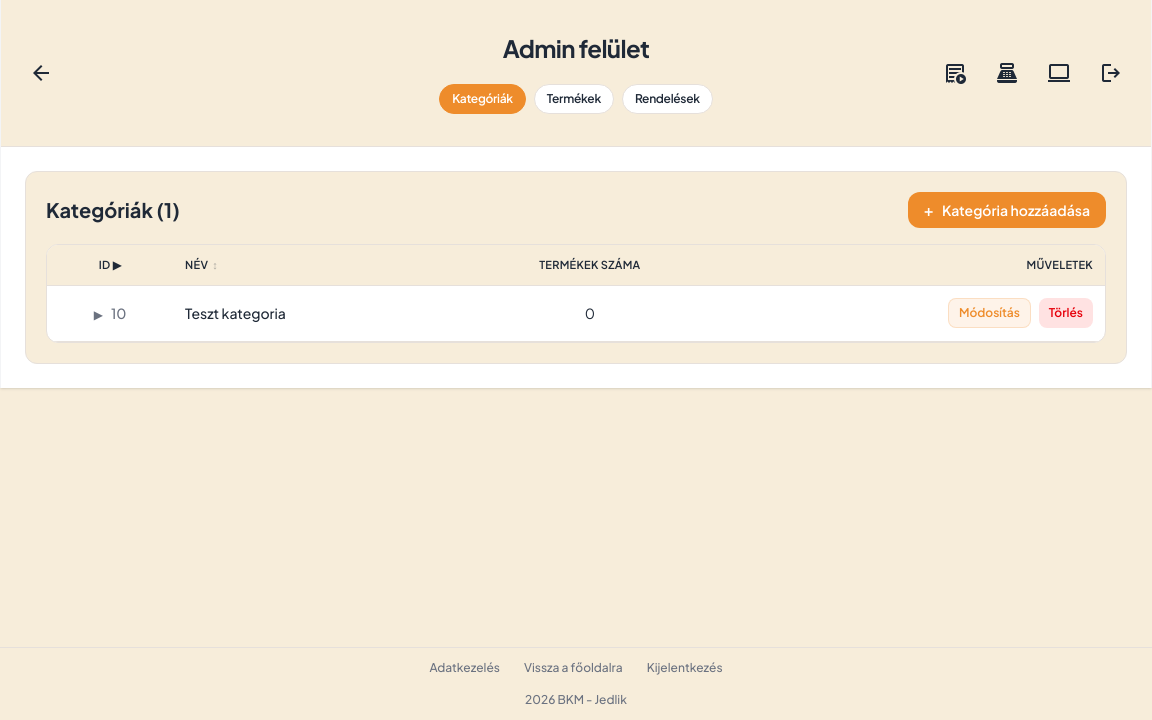
admin page › renders admin dashboard sections
This screenshot has width=1152, height=720.
Check: the heading "Admin felület" is shown, box [503,33,649,63]
Check: the button "Kategóriák" is shown, box [439,84,526,114]
What coordinates should you click on to do the following:
click the button "Termékek"
I would click on:
 (574, 99)
Its box is [534,84,614,114].
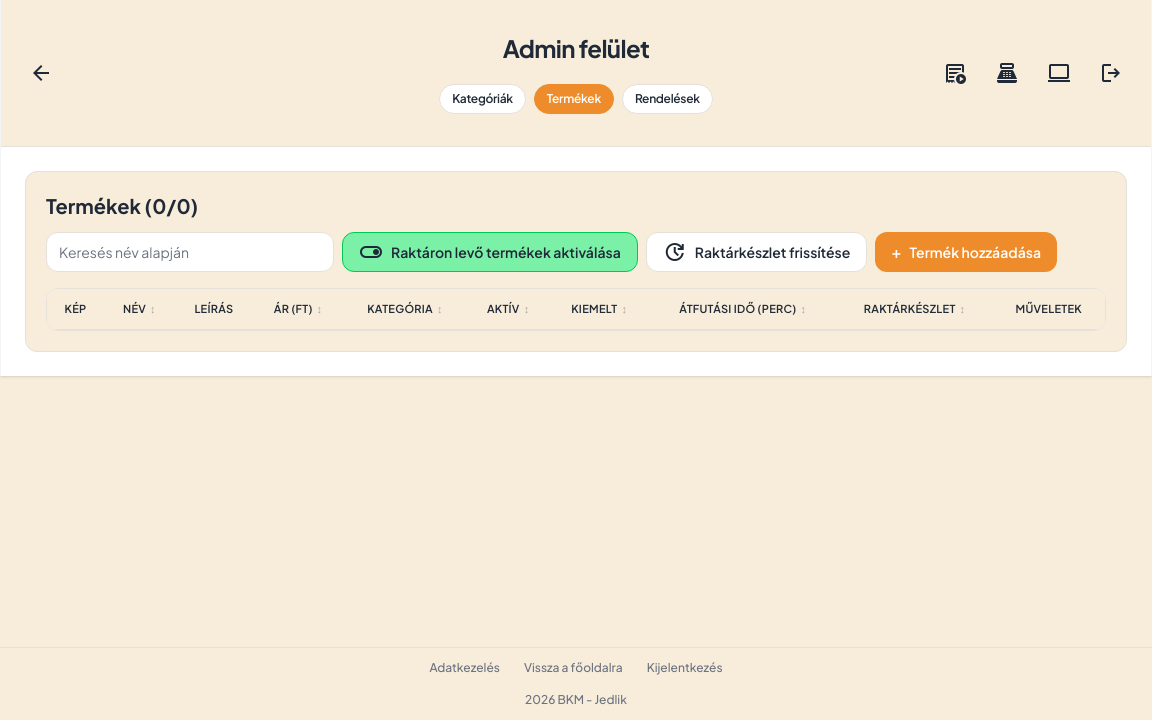
Check: the heading "Termékek (0/0)" is shown, box [46,192,198,220]
What coordinates should you click on to do the following:
click the button "Rendelések"
I would click on:
 (668, 99)
Its box is [622,84,713,114].
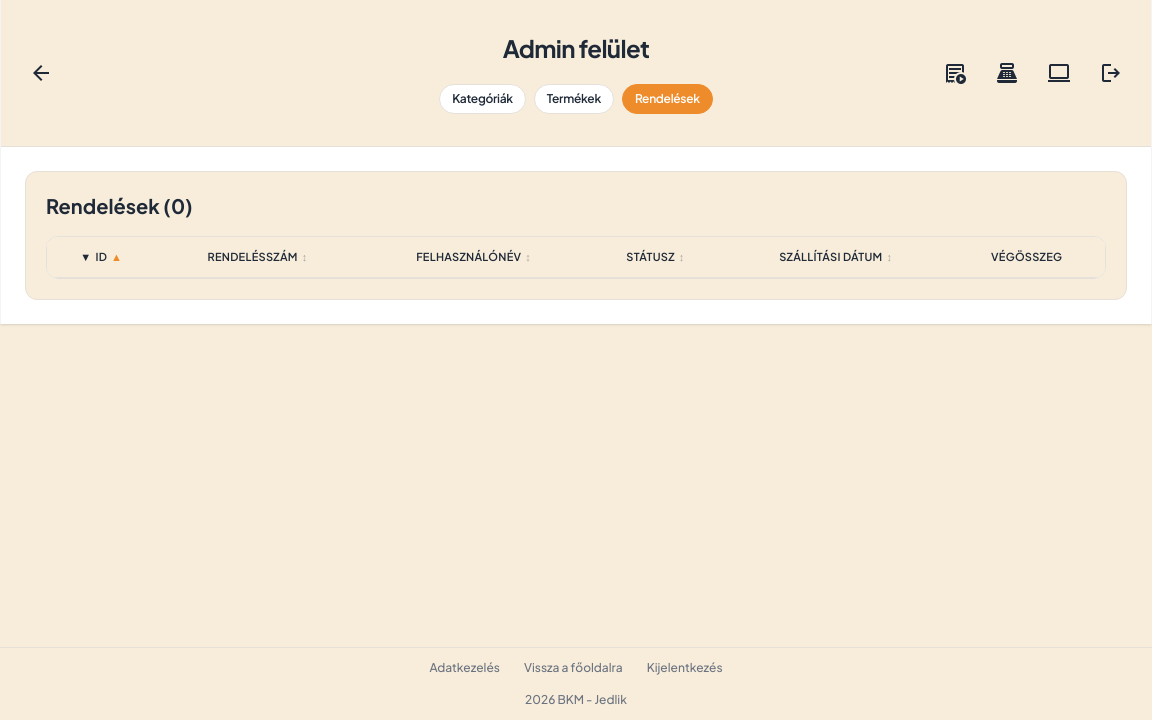
Check: the heading "Rendelések (0)" is shown, box [46,192,193,220]
